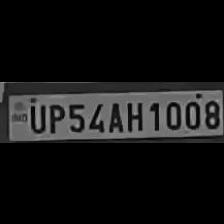0: (162, 98, 182, 130), (182, 96, 200, 130)
1: (144, 98, 162, 132)
4: (86, 98, 104, 132)
5: (65, 98, 85, 132)
8: (202, 96, 220, 128)
A: (104, 98, 124, 132)
H: (124, 98, 144, 132)
P: (46, 100, 64, 134)
U: (25, 101, 45, 133)
